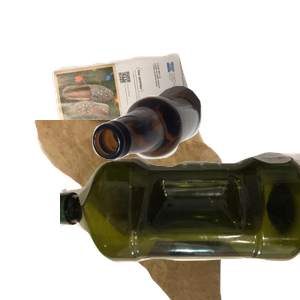glass: (90, 83, 300, 235)
paper: (49, 51, 235, 212)
plastic: (60, 149, 300, 300)
trash: (32, 120, 248, 300)
